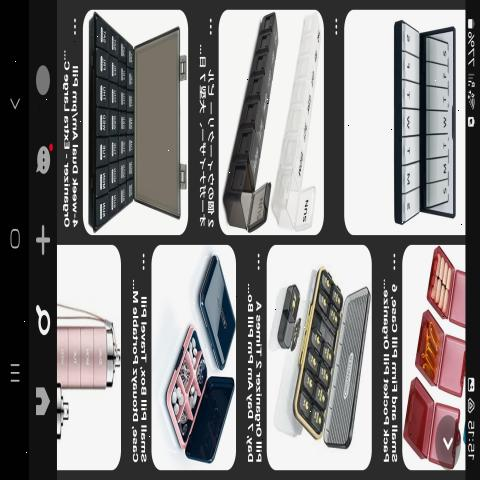PillBox: (219, 2, 284, 224), (89, 12, 123, 228)
